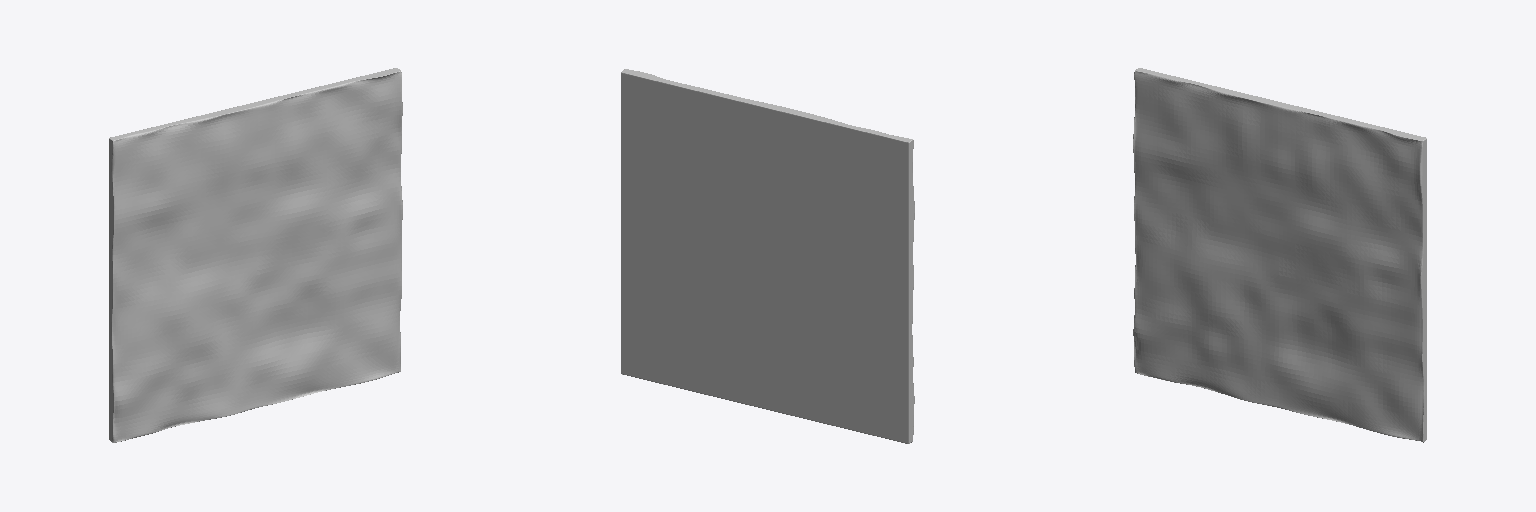
The model's file is grass2.obj.
3 views of the same model, side by side, from view 1: azimuth 30°, elevation 25°; view 2: azimuth 150°, elevation 25°; view 3: azimuth 330°, elevation 25° (orthographic).
Size of the model in its own units: 300 by 300 by 11.78.